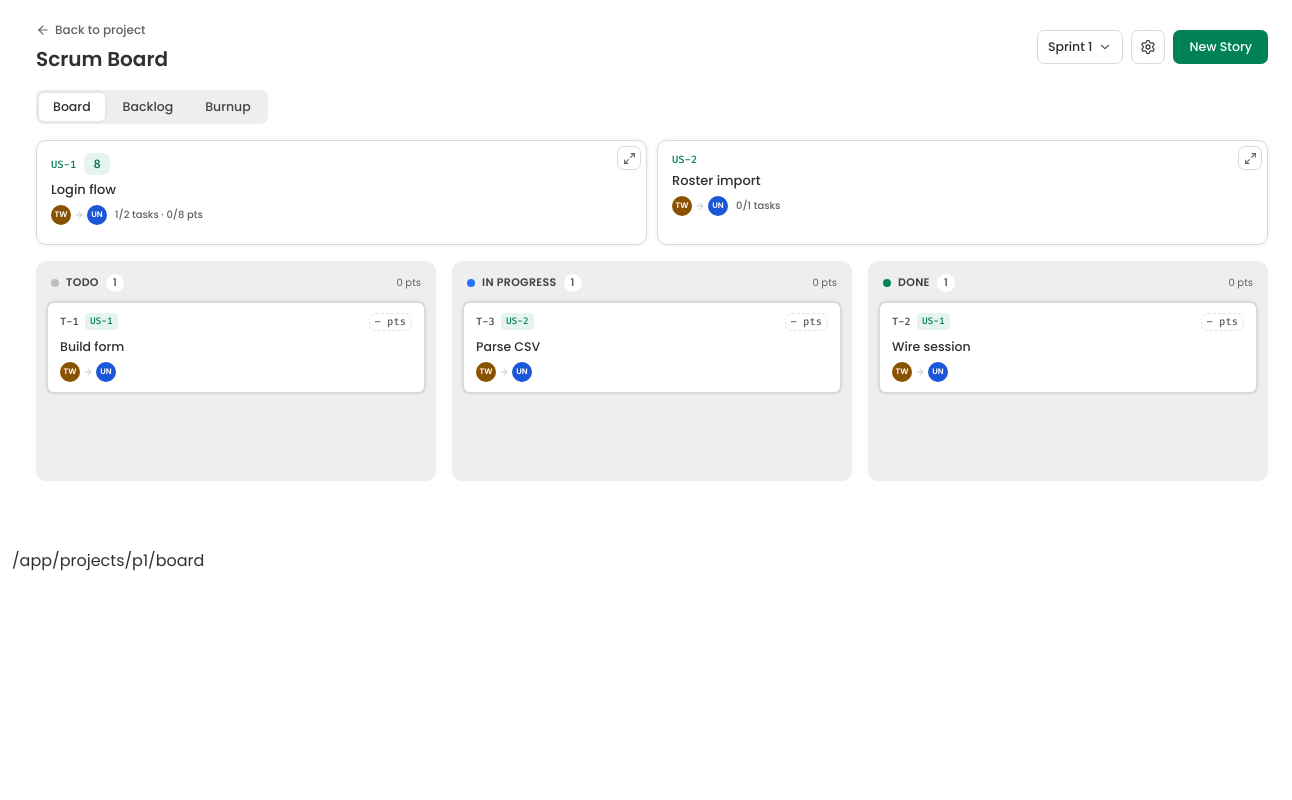
Test: ScrumBoardPage tabs › switches tabs and shows that tab’s content
Check: the text "Login flow" is shown, box [51,181,116,198]
Step 1. Click the tab "Backlog" → (148, 107), box [109,93,187,121]
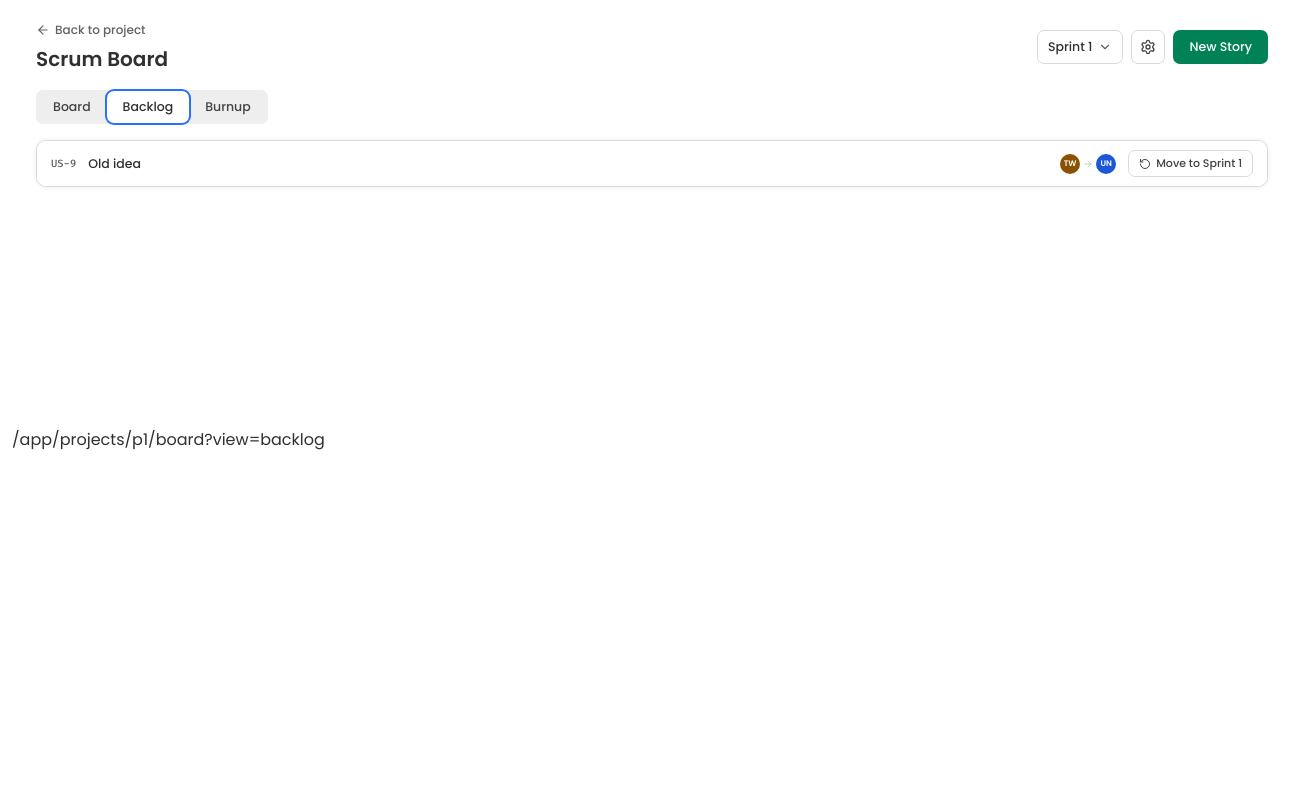
Check: the button "Old idea" is shown, box [88,154,141,172]
Step 2. Click the tab "Burnup" → (228, 107), box [191,93,265,121]
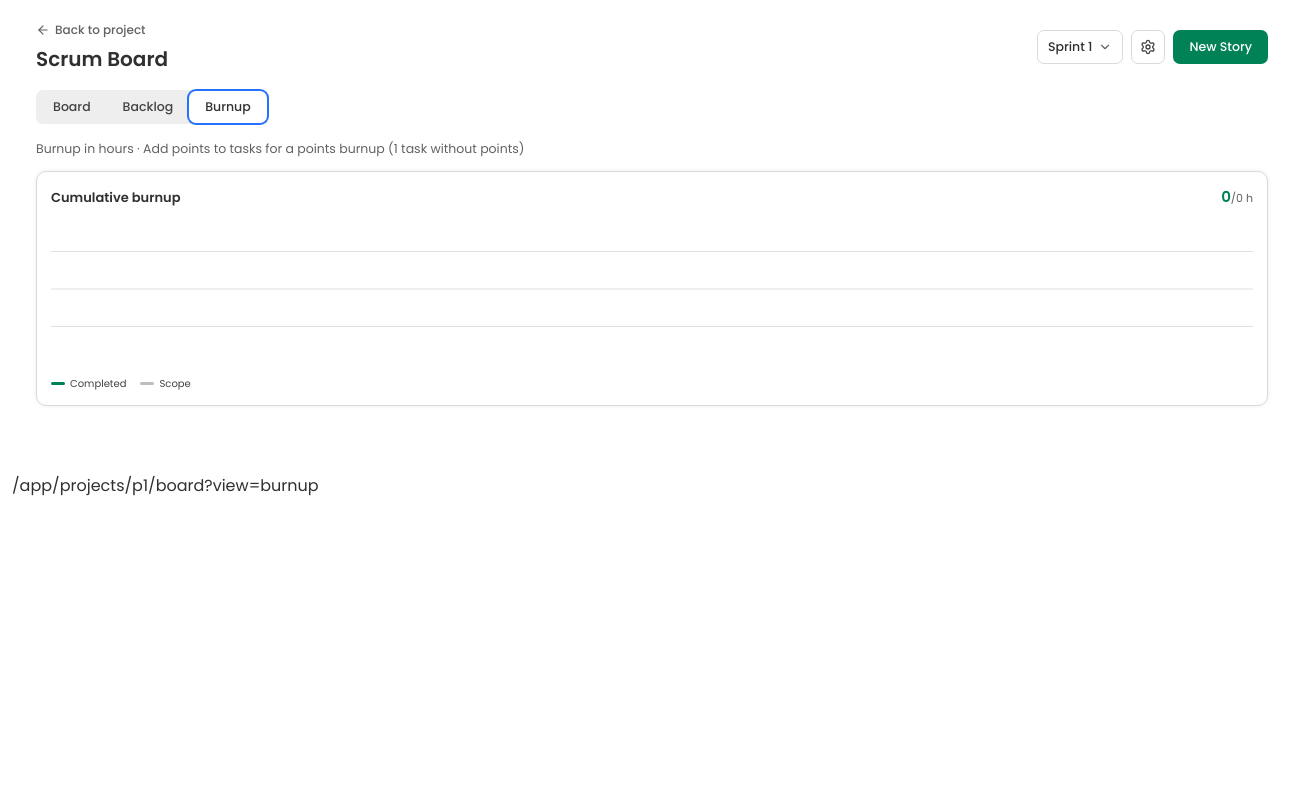
Check: the text "Cumulative burnup" is shown, box [51,188,180,207]
